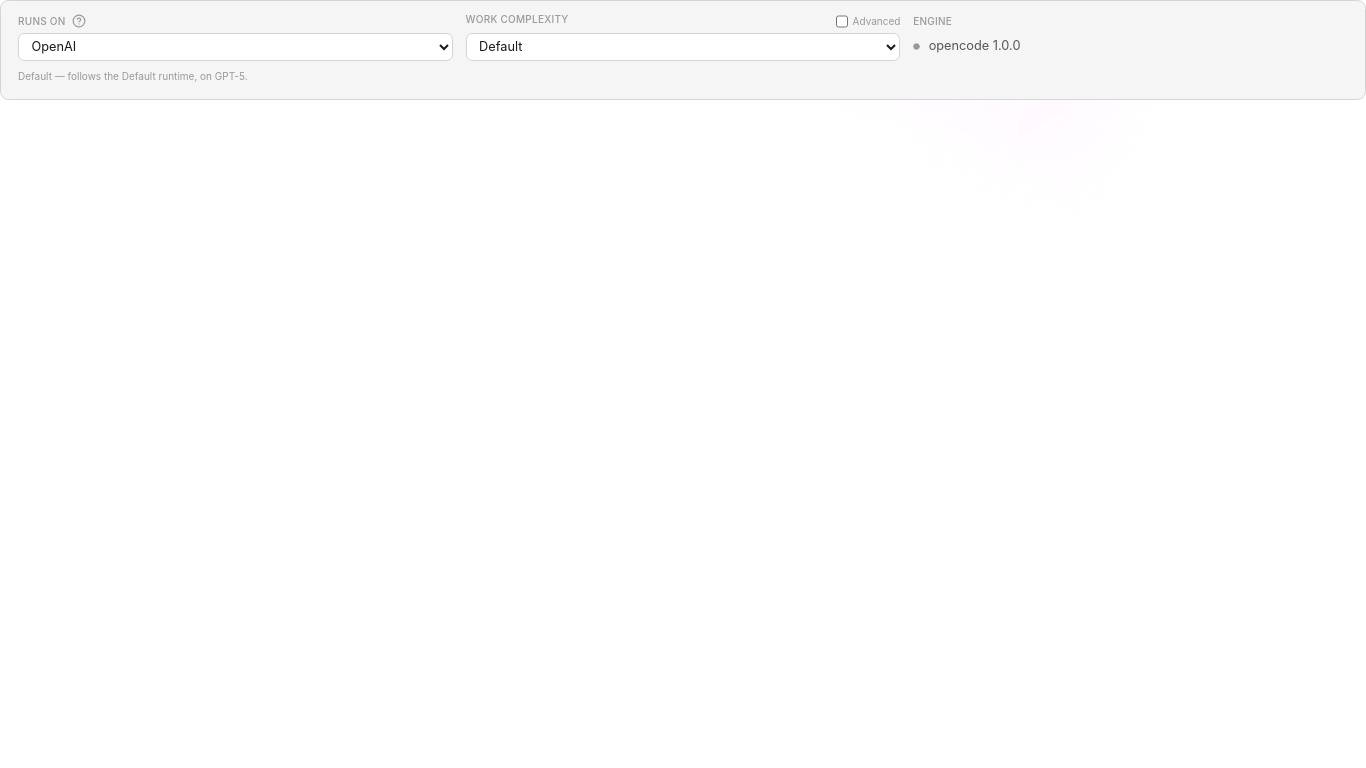
Test: a manifest engine this build cannot run › selects what actually runs, and names the preference only in the tip
Expected: the dropdown labelled "Runs on" shows "OpenAI", x1=18 y1=33 x2=453 y2=60
Expected: the option "gemini" is not shown
Click the button named "About Runs on" at (79, 21), box x1=70 y1=12 x2=88 y2=30
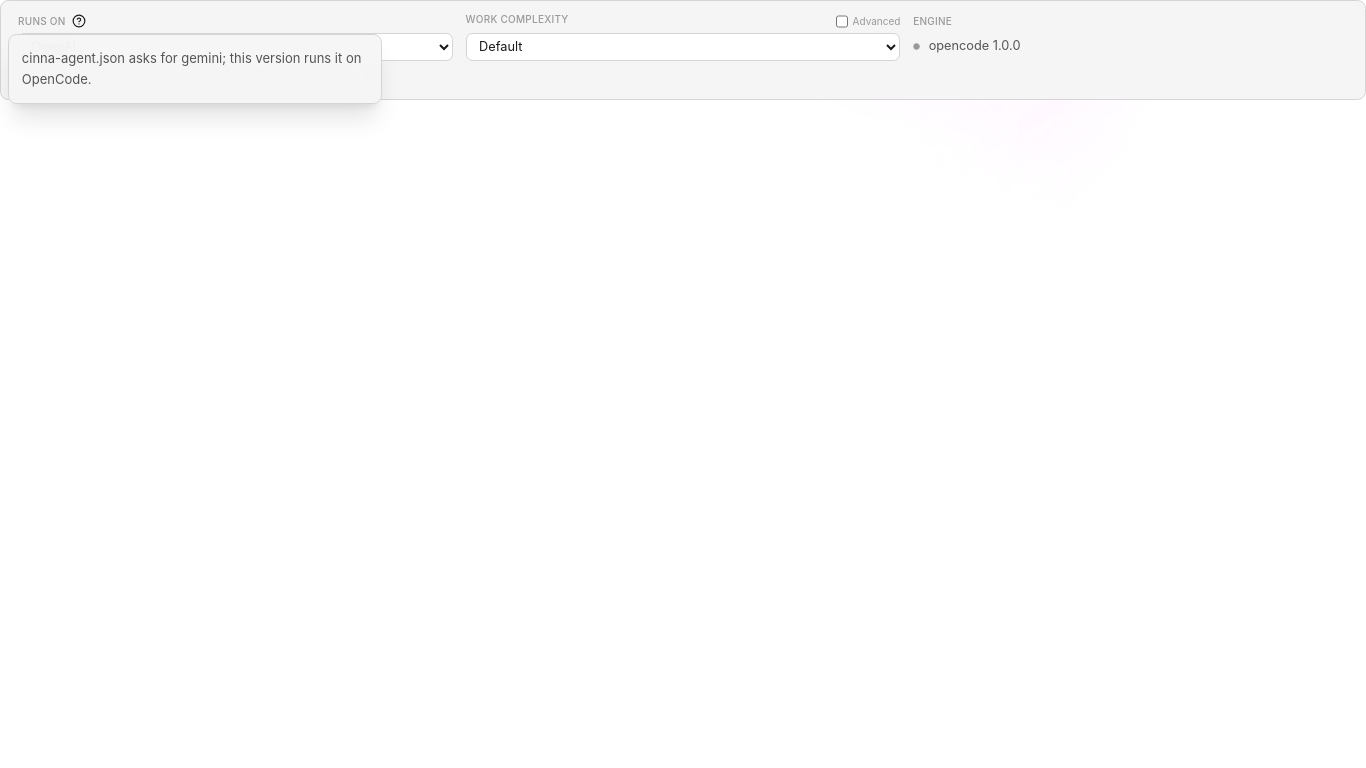
Expected: the dropdown labelled "Work complexity" is enabled, x1=466 y1=33 x2=900 y2=60
Expected: the text "cinna-agent.json asks for gemini; this version runs it on OpenCode." is shown, x1=8 y1=34 x2=382 y2=104
